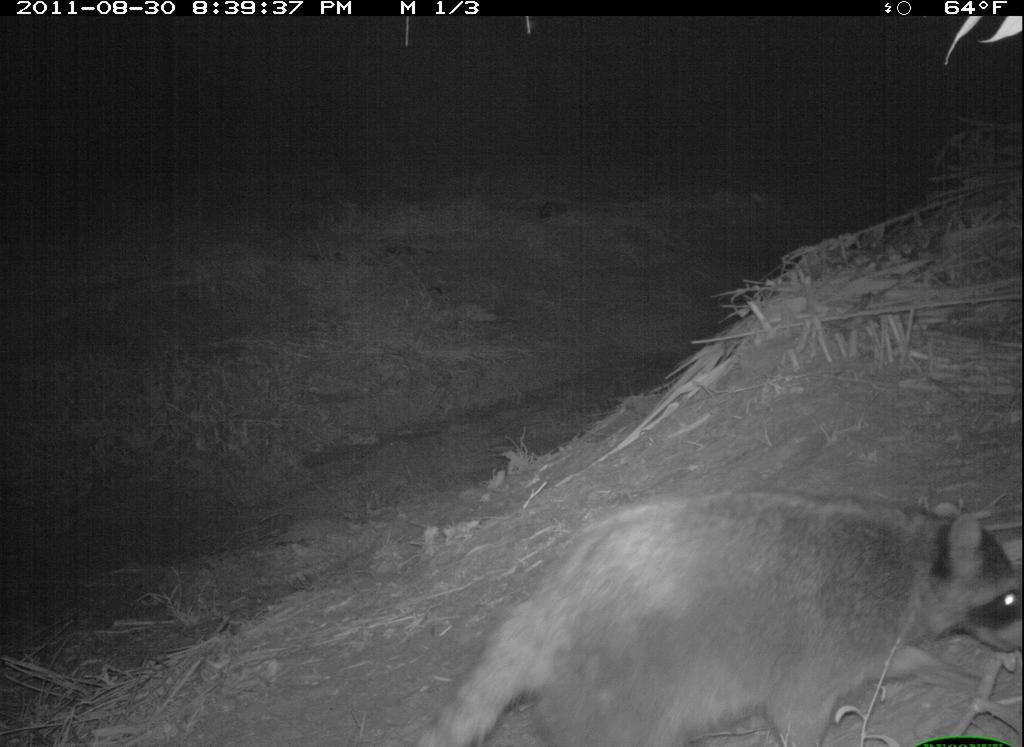raccoon: (417, 486, 1023, 743)
